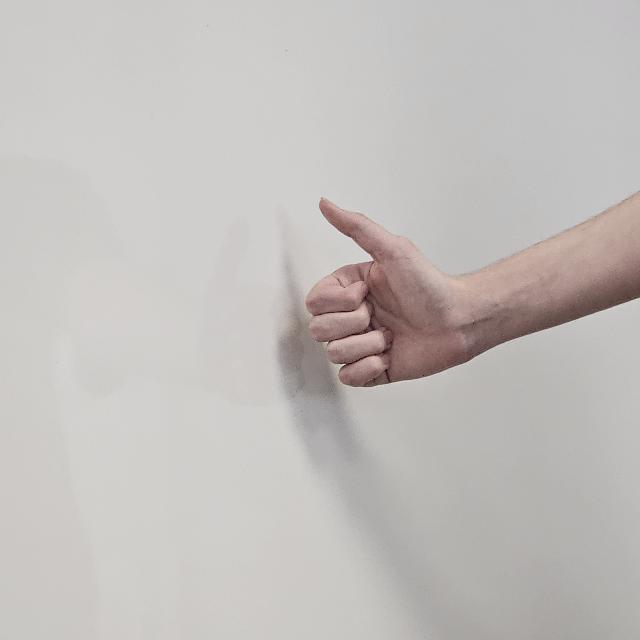Start: (302, 196, 473, 436)
